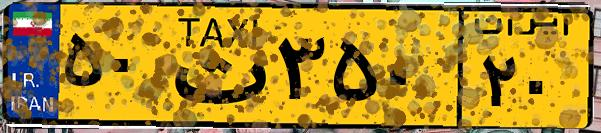0: (385, 28, 445, 110), (525, 38, 570, 115), (110, 28, 158, 98)
2: (475, 38, 525, 113)
3: (270, 28, 330, 110)
5: (330, 28, 385, 110), (57, 26, 110, 100)
ت: (158, 12, 270, 120)
